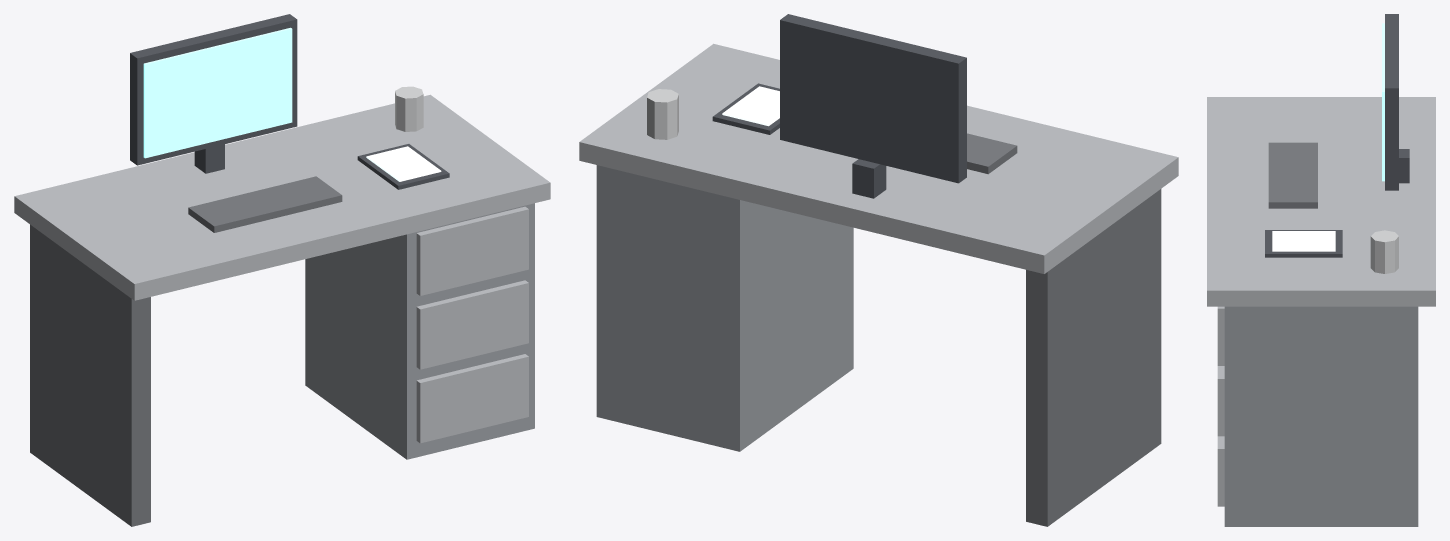
Rendered from SM_Desk_Terminal.fbx.
3 renders of one model, left to right at view 1: azimuth 30°, elevation 25°; view 2: azimuth 150°, elevation 25°; view 3: azimuth 270°, elevation 25°, orthographic. The views are drawn at different scales.
Parts seen in each view (by area): view 1: SM_Desk_Terminal; view 2: SM_Desk_Terminal; view 3: SM_Desk_Terminal.
Boxes of the visible parts, x1=… form: SM_Desk_Terminal: x1=14, y1=14, x2=550, y2=526; SM_Desk_Terminal: x1=579, y1=14, x2=1178, y2=526; SM_Desk_Terminal: x1=1207, y1=14, x2=1435, y2=526.
Size of the model in its own units: 1.3 by 1.15 by 0.65.
